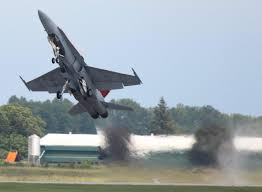fighter: (17, 8, 145, 120)
